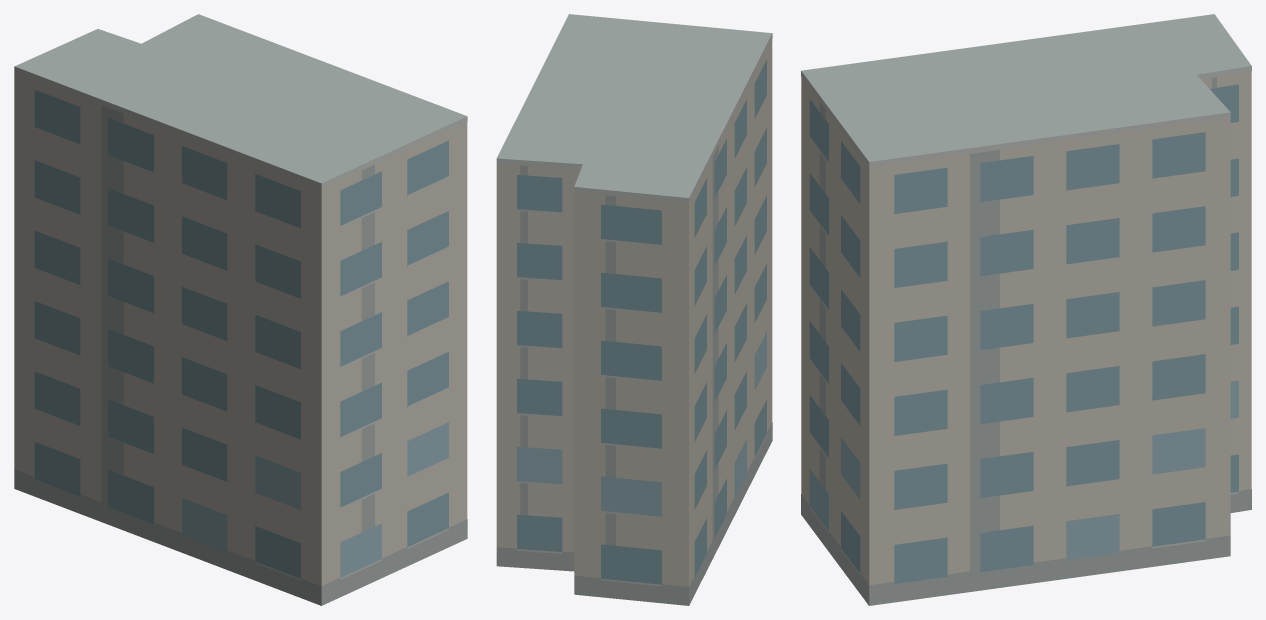
File: survey-upis-32610487.glb
3 views of the same model, side by side, from view 1: azimuth 30°, elevation 25°; view 2: azimuth 150°, elevation 25°; view 3: azimuth 270°, elevation 25° (orthographic). The views are drawn at different scales.
Visible parts, largest first — view 1: survey-upis-32610487.tmp; view 2: survey-upis-32610487.tmp; view 3: survey-upis-32610487.tmp.
Boxes of the visible parts, x1,y1,x2,y2 form: survey-upis-32610487.tmp: [14, 14, 467, 605]; survey-upis-32610487.tmp: [496, 14, 772, 605]; survey-upis-32610487.tmp: [801, 14, 1251, 605].
Size of the model in its own units: 13.38 by 18.7 by 17.22.
